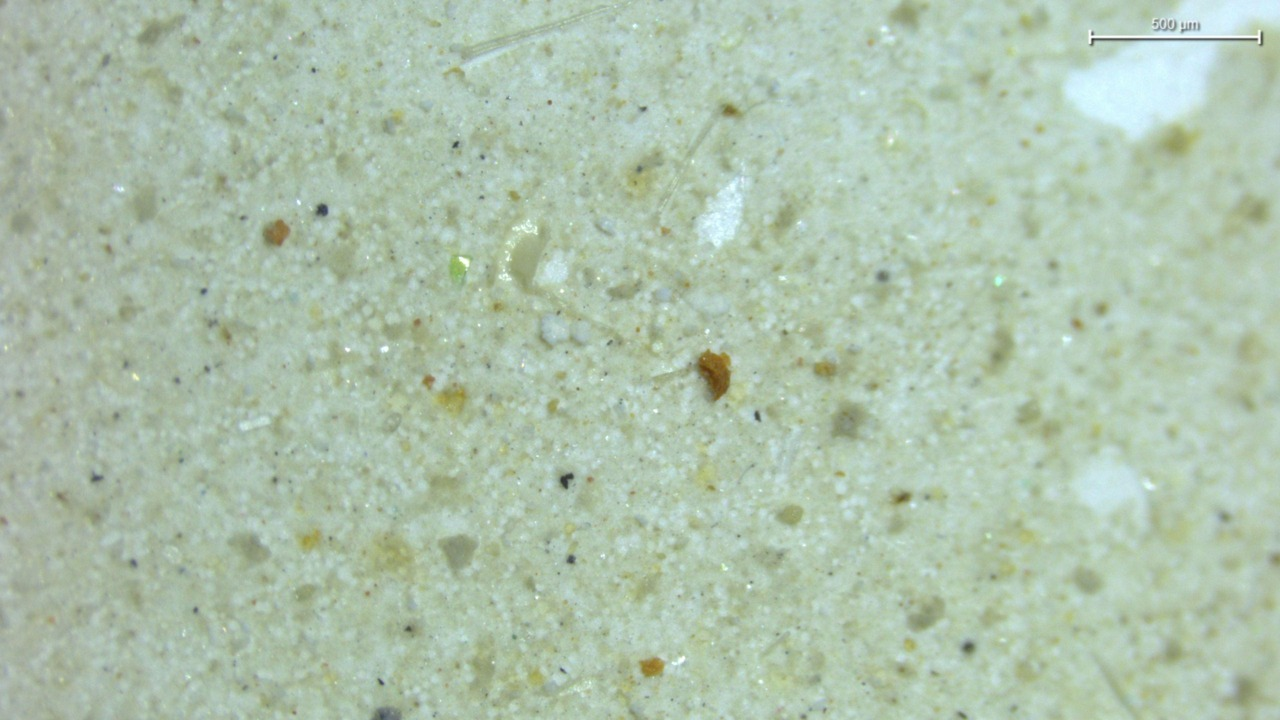microplastic_fragment: (540, 315, 569, 346), (449, 255, 470, 283), (571, 321, 591, 344), (594, 216, 616, 235), (652, 287, 672, 302)
